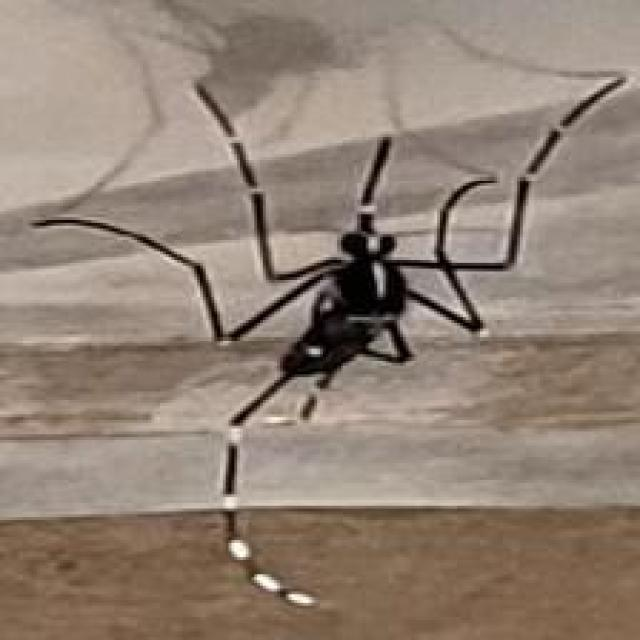Aedes albopictus: (27, 50, 633, 607)
